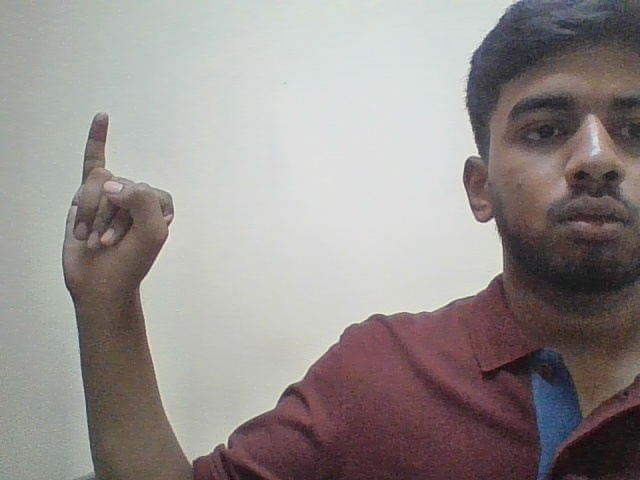I: (51, 97, 204, 333)
